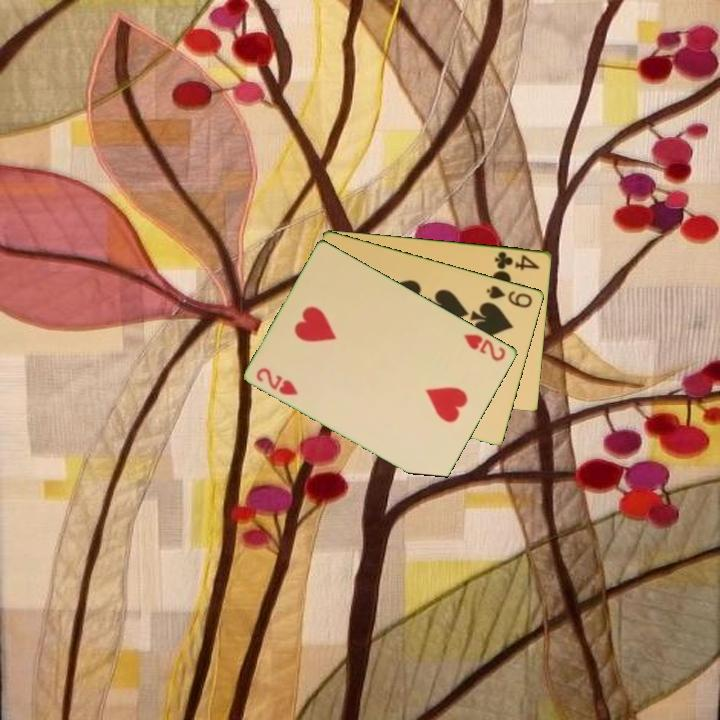2h: (460, 330, 509, 364), (253, 364, 301, 398)
4c: (491, 248, 543, 273)
9s: (483, 282, 536, 311)
